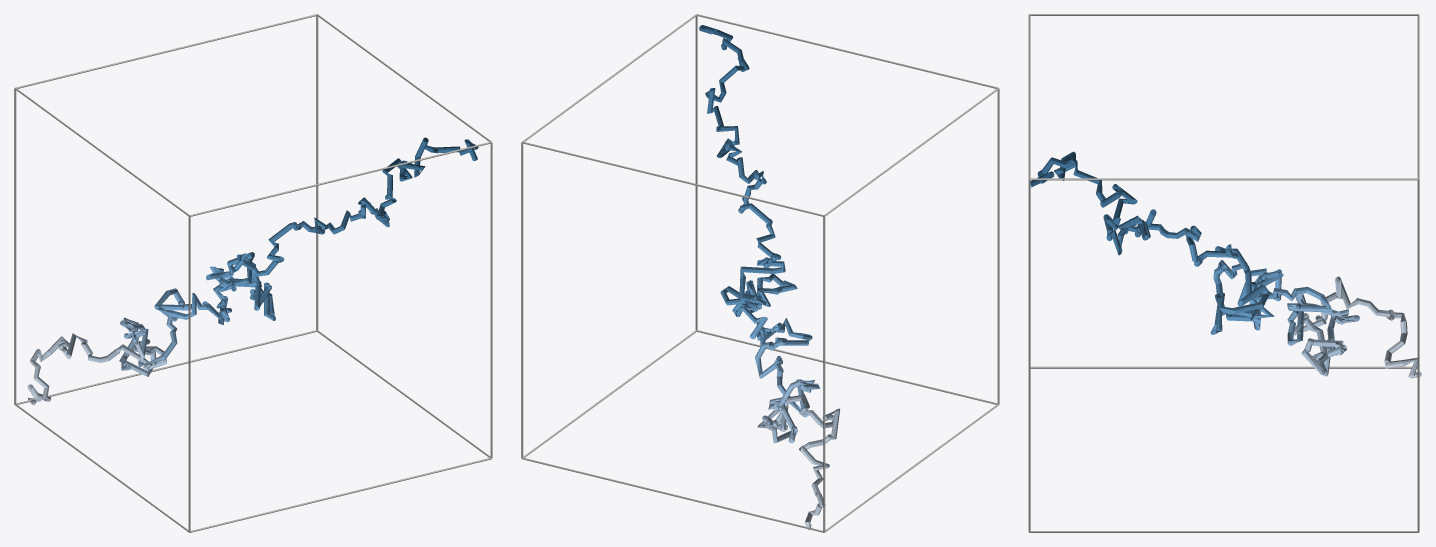
The model's file is SP20_calm.glb.
The picture shows the model from 3 angles, left to right: view 1: azimuth 30°, elevation 25°; view 2: azimuth 150°, elevation 25°; view 3: azimuth 270°, elevation 25°; orthographic projection. The views are drawn at different scales.
Parts seen in each view (by area): view 1: geometry_0, geometry_1; view 2: geometry_0, geometry_1; view 3: geometry_0, geometry_1.
Boxes of the visible parts, bbox=[...] form: geometry_0: bbox=[27, 137, 478, 405]; geometry_1: bbox=[14, 14, 492, 532]; geometry_0: bbox=[699, 25, 840, 529]; geometry_1: bbox=[521, 14, 999, 532]; geometry_0: bbox=[1030, 151, 1421, 378]; geometry_1: bbox=[1028, 14, 1419, 532].
Bounding box in the file's own units: 0.3016 × 0.3042 × 0.3037.
